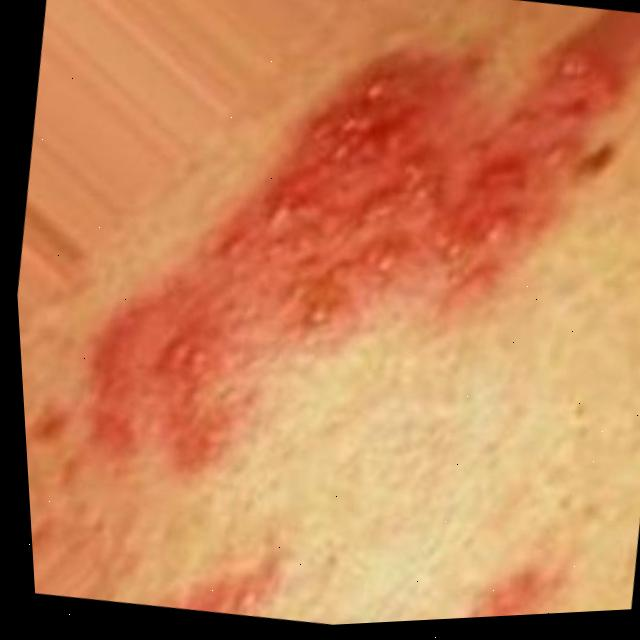Shingles: (39, 0, 640, 548), (134, 525, 274, 624), (428, 545, 560, 620)
